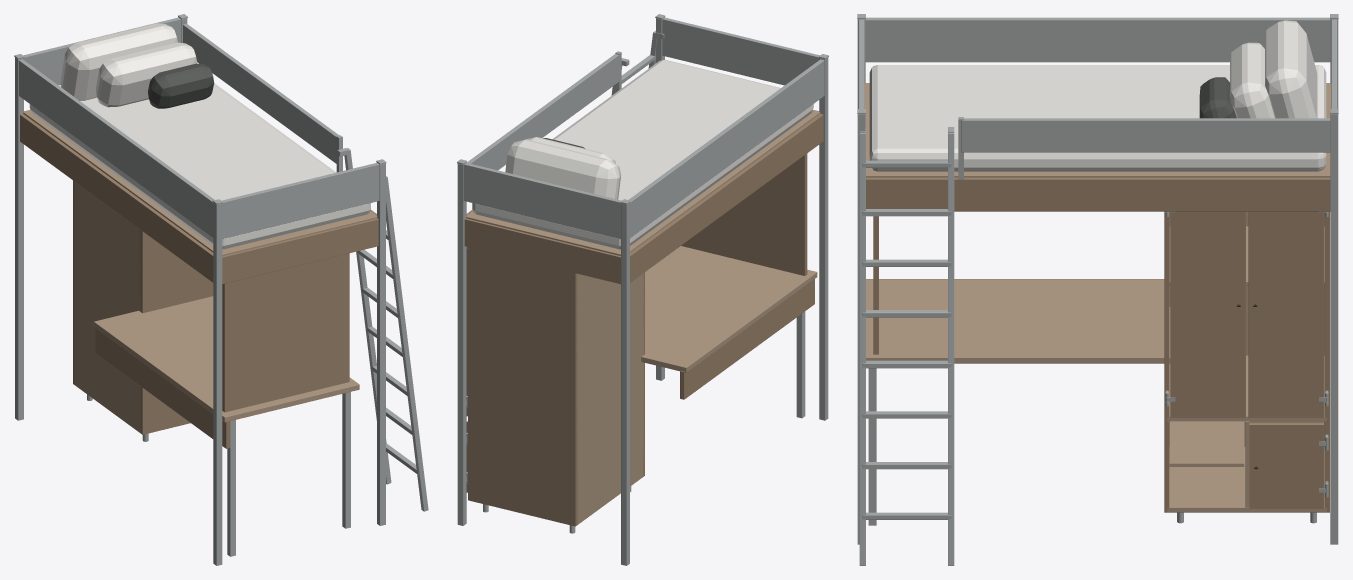
The picture shows the model from 3 angles, left to right: view 1: azimuth 30°, elevation 25°; view 2: azimuth 150°, elevation 25°; view 3: azimuth 270°, elevation 25°; orthographic projection. The views are drawn at different scales.
Visible parts, largest first — view 1: visual_part_000_0_4, visual_part_000_0_3, visual_part_000_0_1, visual_part_000_0_2, visual_part_000_0_0; view 2: visual_part_000_0_3, visual_part_000_0_4, visual_part_000_0_2, visual_part_000_0_1; view 3: visual_part_000_0_4, visual_part_000_0_2, visual_part_000_0_1, visual_part_000_0_3, visual_part_001_0_2, visual_part_002_0_2, visual_part_003_0_2, visual_part_000_0_0.
Boxes of the visible parts, left/top/right/bottom form: visual_part_000_0_4: left=14, top=14, right=428, bottom=565; visual_part_000_0_3: left=20, top=114, right=378, bottom=448; visual_part_000_0_1: left=29, top=23, right=370, bottom=249; visual_part_000_0_2: left=23, top=110, right=377, bottom=433; visual_part_000_0_0: left=148, top=63, right=214, bottom=108; visual_part_000_0_3: left=464, top=113, right=823, bottom=526; visual_part_000_0_4: left=457, top=14, right=828, bottom=565; visual_part_000_0_2: left=466, top=110, right=820, bottom=524; visual_part_000_0_1: left=472, top=60, right=813, bottom=249; visual_part_000_0_4: left=857, top=14, right=1338, bottom=565; visual_part_000_0_2: left=864, top=83, right=1331, bottom=512; visual_part_000_0_1: left=869, top=20, right=1326, bottom=171; visual_part_000_0_3: left=866, top=177, right=1330, bottom=512; visual_part_001_0_2: left=1170, top=211, right=1245, bottom=417; visual_part_002_0_2: left=1248, top=211, right=1323, bottom=417; visual_part_003_0_2: left=1249, top=422, right=1323, bottom=508; visual_part_000_0_0: left=1199, top=77, right=1236, bottom=118.
Size of the model in its own units: 1.28 by 2.17 by 2.1.
